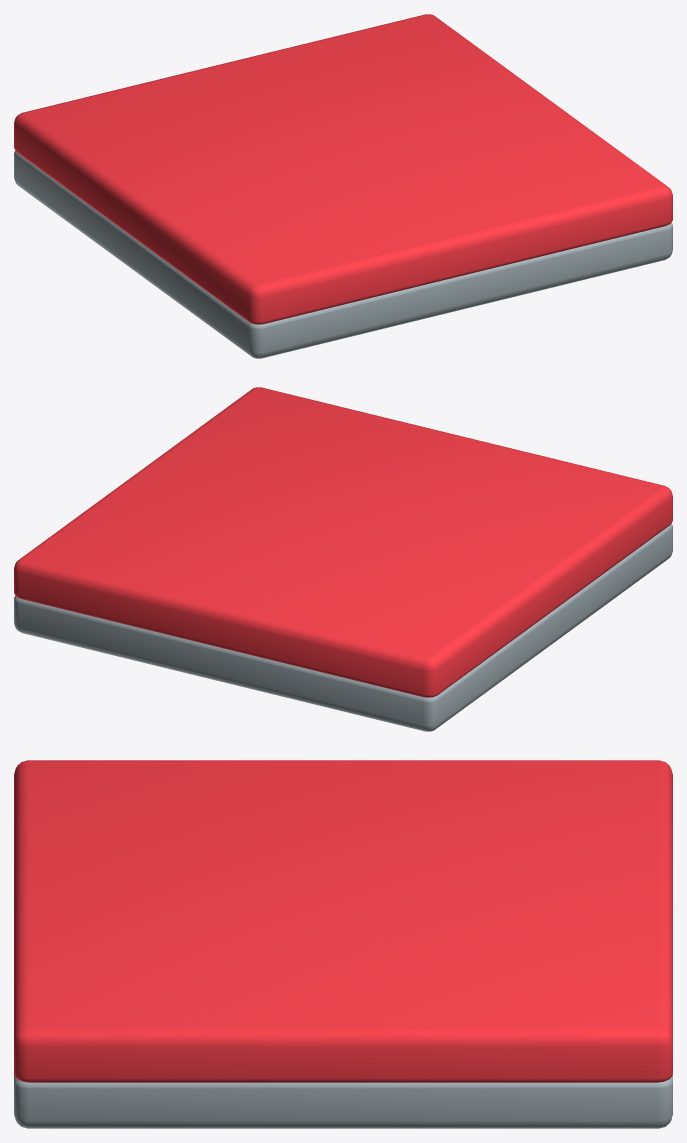
File: tileLarge_teamRed.glb
3 renders of one model, top to bottom at view 1: azimuth 30°, elevation 25°; view 2: azimuth 150°, elevation 25°; view 3: azimuth 270°, elevation 25°, orthographic. The views are drawn at different scales.
Parts seen in each view (by area): view 1: tileLarge_teamRed; view 2: tileLarge_teamRed; view 3: tileLarge_teamRed.
Part boxes in pixels (bbox=[...]): tileLarge_teamRed: bbox=[14, 14, 672, 358]; tileLarge_teamRed: bbox=[14, 387, 672, 731]; tileLarge_teamRed: bbox=[14, 760, 672, 1128].
Size of the model in its own units: 1.8 by 0.3 by 1.8.
